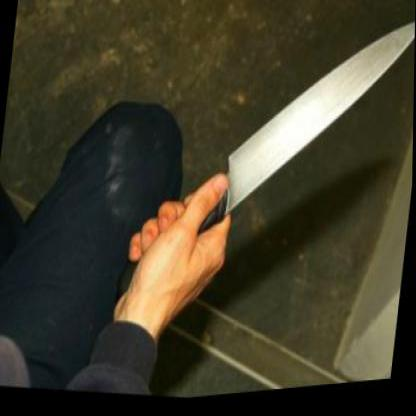knife: (124, 0, 414, 314)
